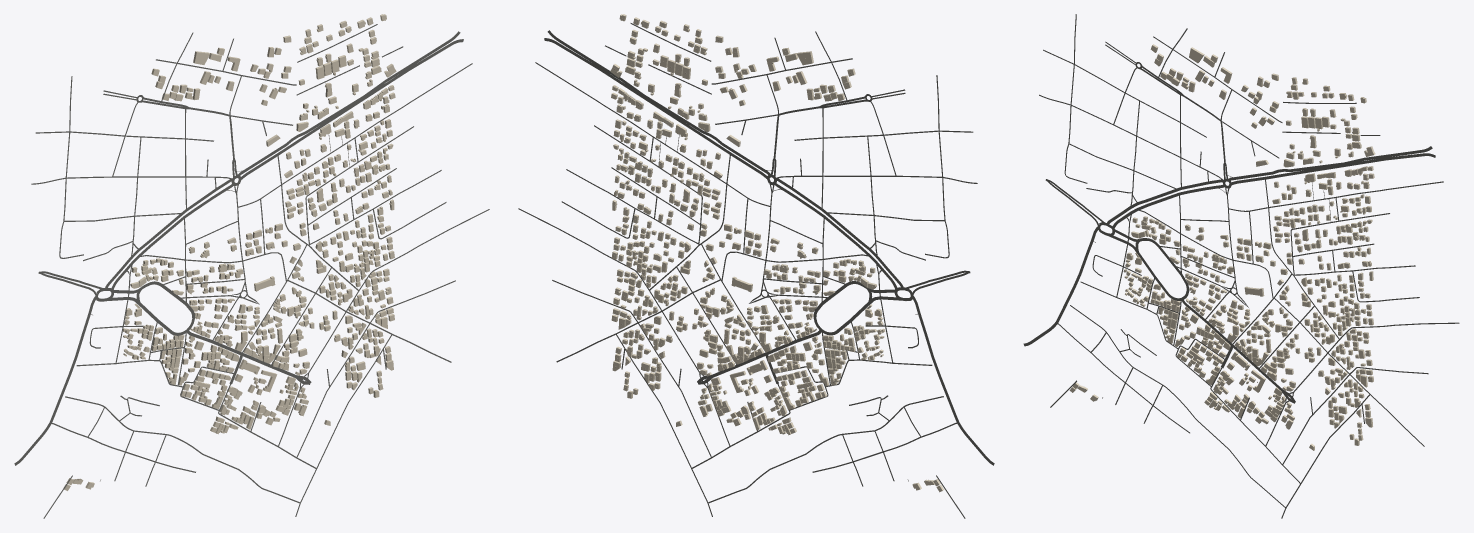
File: irbid_3583_3256.glb
3 renders of one model, left to right at view 1: azimuth 30°, elevation 25°; view 2: azimuth 150°, elevation 25°; view 3: azimuth 330°, elevation 25°, orthographic. The views are drawn at different scales.
Parts seen in each view (by area): view 1: Road .031, Road شارع القدس, Road .009, Road .010; view 2: Road شارع القدس, Road .031, Road .009, Road .010; view 3: Road شارع القدس, Road .031, Road .009.
Boxes of the visible parts, x1,y1,x2,y2 form: Road .031: (240,39,463,179); Road شارع القدس: (238,31,460,177); Road .009: (14,296,97,465); Road .010: (136,281,194,335); Road شارع القدس: (547,30,770,176); Road .031: (544,38,768,179); Road .009: (911,295,994,465); Road .010: (813,281,872,335); Road شارع القدس: (1228,146,1432,181); Road .031: (1230,153,1435,185); Road .009: (1023,226,1099,346).
Bounding box in the file's own units: 1345 × 1378 × 10.5.
